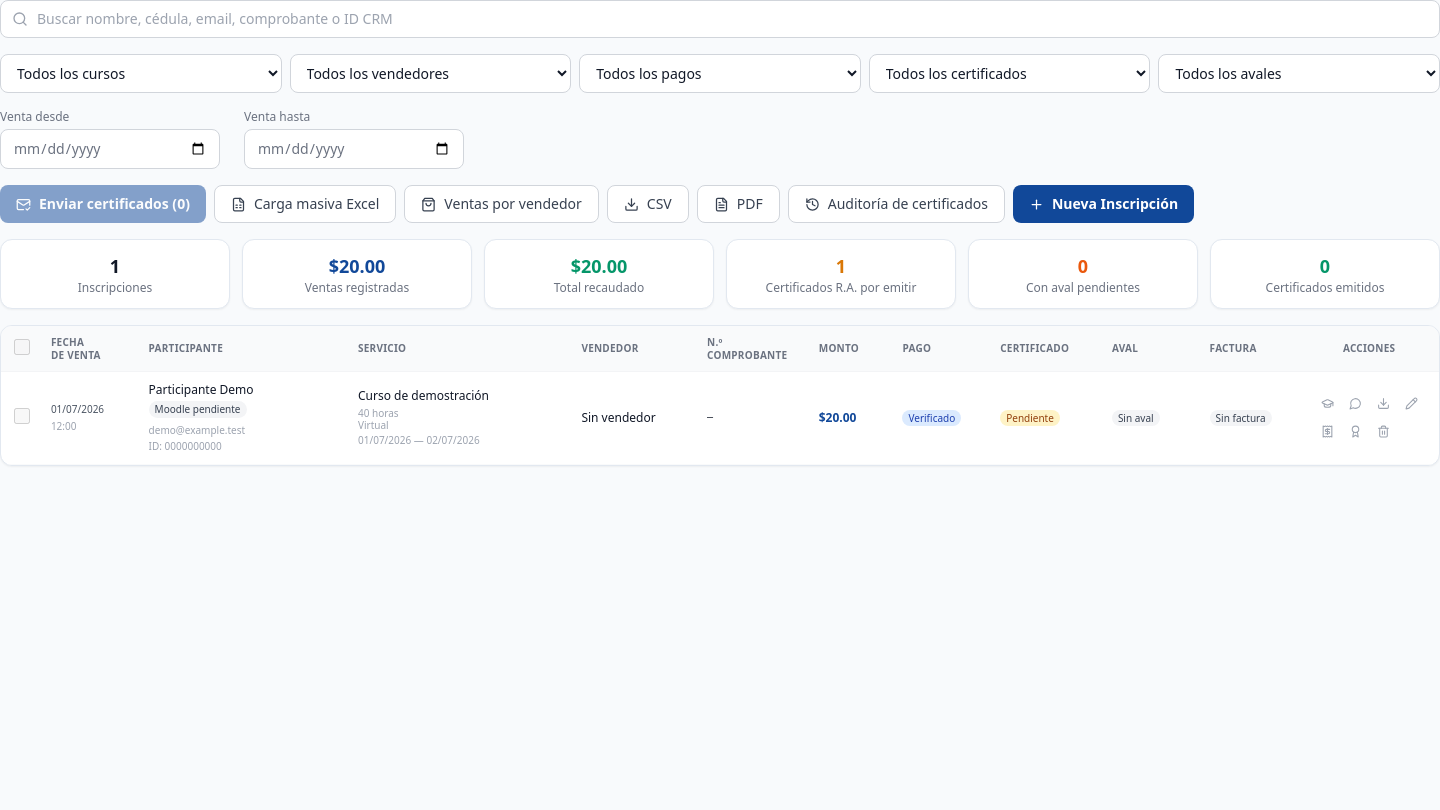
Test: protección histórica de facturación (confirmación obligatoria) › 11/12. confirmar histórico -> crearFacturaFiscalDesdeInscripcion exactamente 1 vez, verificarPagoInscripcion 0 veces
Expected: the text "Participante Demo" is shown, [149,381,254,398]
Click the button named "Emitir factura" at [1327, 432], box [1315,420,1339,444]
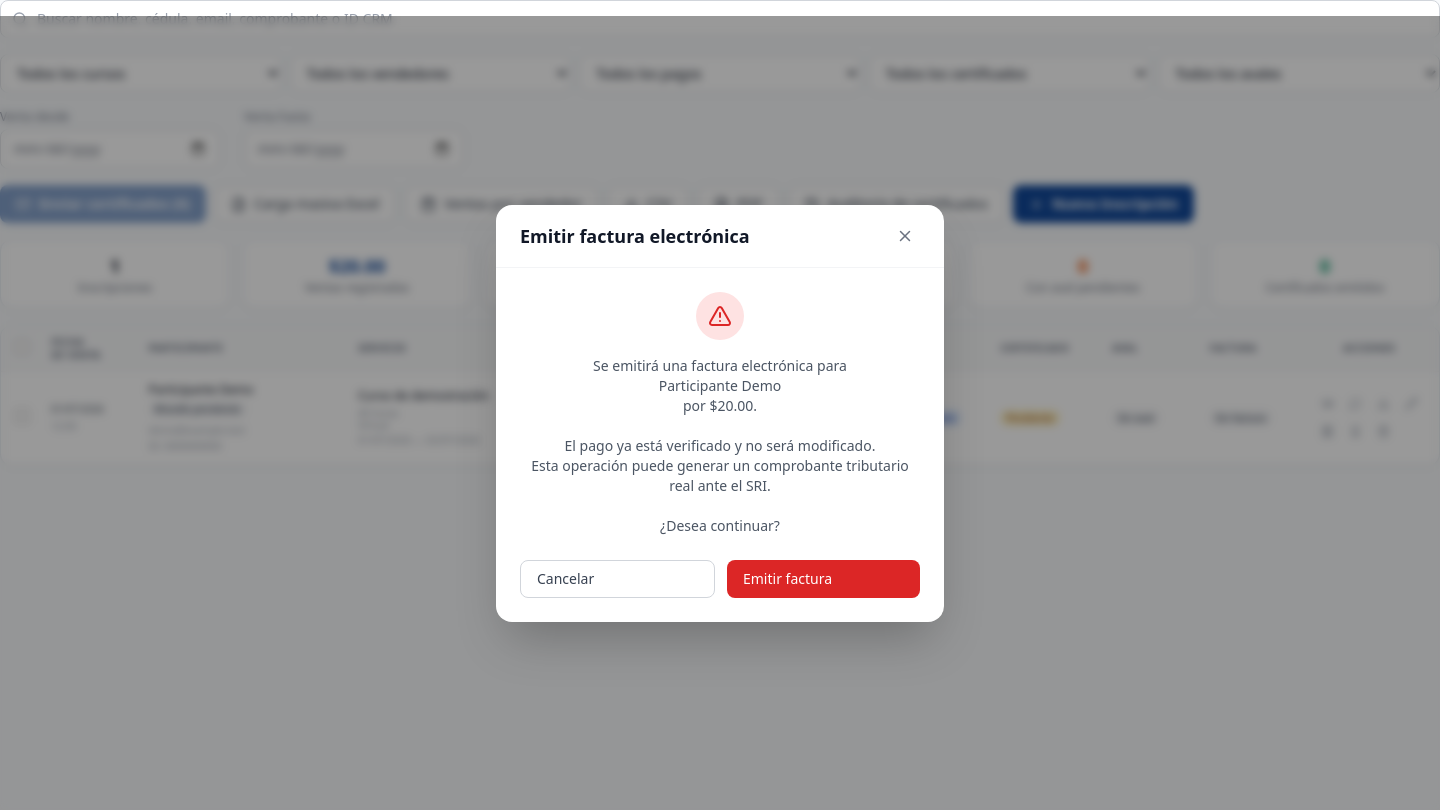
Result: the heading "Emitir factura electrónica" is shown at [520,222,750,250]
Click the button "Emitir factura" at [824, 578], box [727,560,920,598]
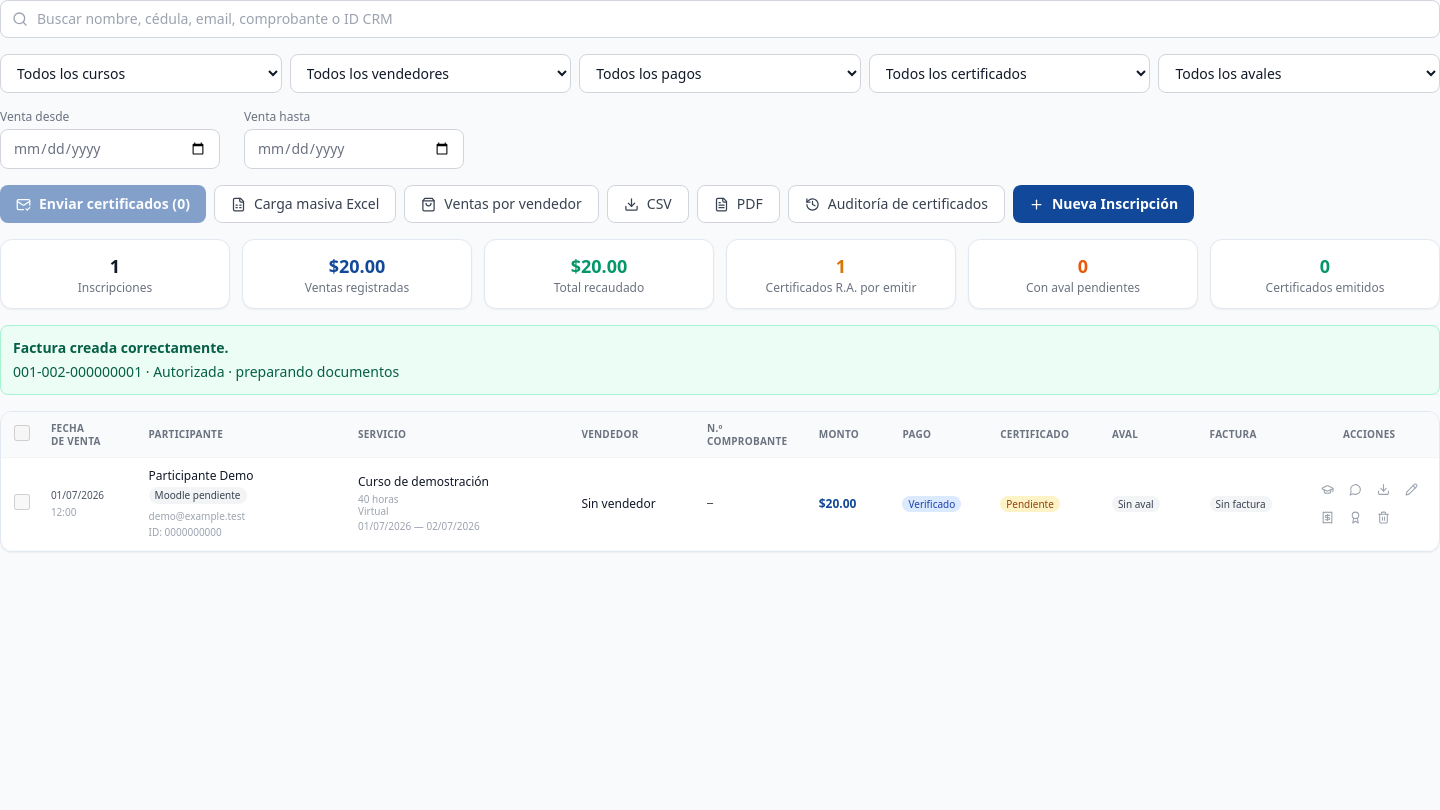
Result: the text "Factura creada correctamente." is shown at [13,338,229,357]
